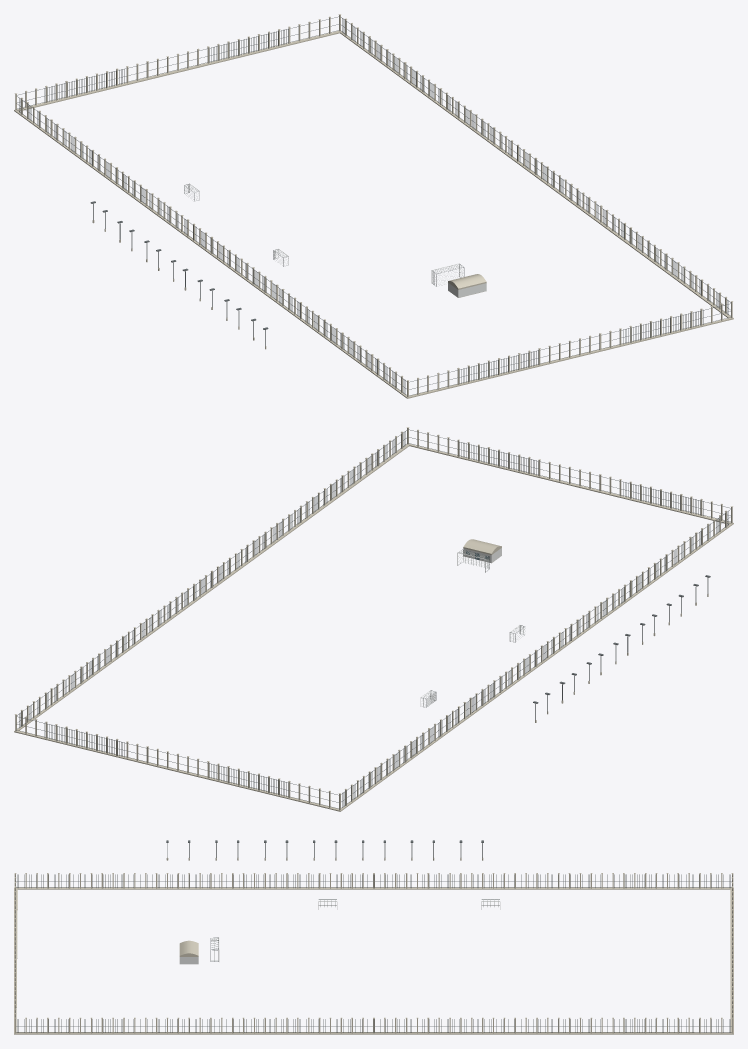
3 renders of one model, top to bottom at view 1: azimuth 30°, elevation 25°; view 2: azimuth 150°, elevation 25°; view 3: azimuth 270°, elevation 25°, orthographic. The views are drawn at different scales.
Parts seen in each view (by area): view 1: buildings_s_-8_4_Warm_Limestone, buildings_s_-8_4_Dark_Metal; view 2: buildings_s_-8_4_Warm_Limestone, buildings_s_-8_4_Dark_Metal; view 3: buildings_s_-8_4_Warm_Limestone, buildings_s_-8_4_Dark_Metal.
Boxes of the visible parts, <box> form: buildings_s_-8_4_Warm_Limestone: <box>14,14,733,398</box>; buildings_s_-8_4_Dark_Metal: <box>16,16,731,395</box>; buildings_s_-8_4_Warm_Limestone: <box>14,427,733,811</box>; buildings_s_-8_4_Dark_Metal: <box>16,429,731,808</box>; buildings_s_-8_4_Warm_Limestone: <box>14,857,733,1034</box>; buildings_s_-8_4_Dark_Metal: <box>15,840,732,1032</box>.
Size of the model in its own units: 150 by 8.68 by 265.
